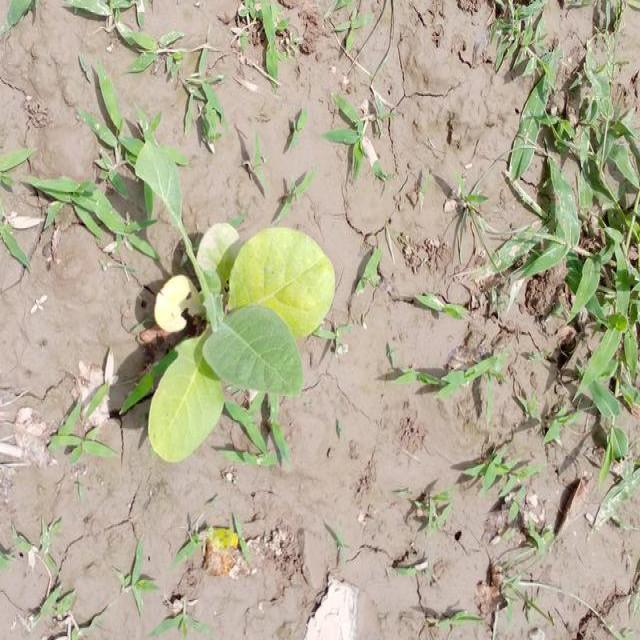crop: (139, 143, 332, 466)
